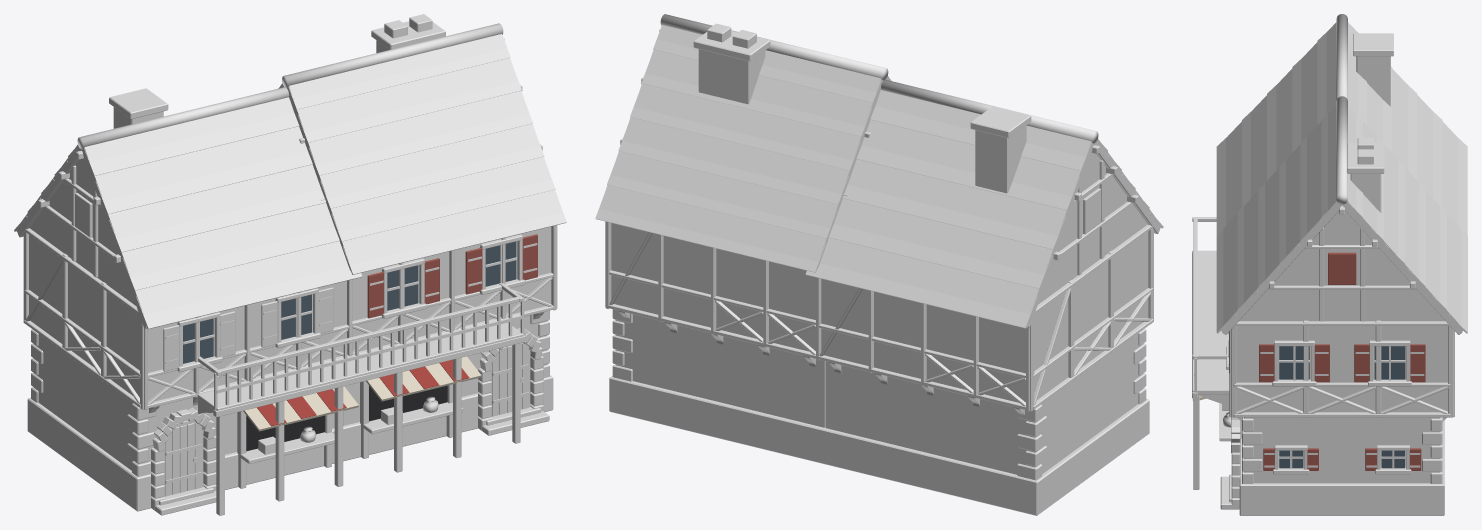
Rendered from col_18_collees_echoppes.fbx.
The picture shows the model from 3 angles, left to right: view 1: azimuth 30°, elevation 25°; view 2: azimuth 150°, elevation 25°; view 3: azimuth 270°, elevation 25°; orthographic projection. The views are drawn at different scales.
Parts seen in each view (by area): view 1: col_18_collees_echoppes_LOD0; view 2: col_18_collees_echoppes_LOD0; view 3: col_18_collees_echoppes_LOD0.
Part boxes in pixels (<box>): col_18_collees_echoppes_LOD0: <box>14,14,566,515</box>; col_18_collees_echoppes_LOD0: <box>595,14,1163,515</box>; col_18_collees_echoppes_LOD0: <box>1192,14,1467,515</box>.
Size of what is drawn, in the model's own units: 11.68 by 9.38 by 7.02.
